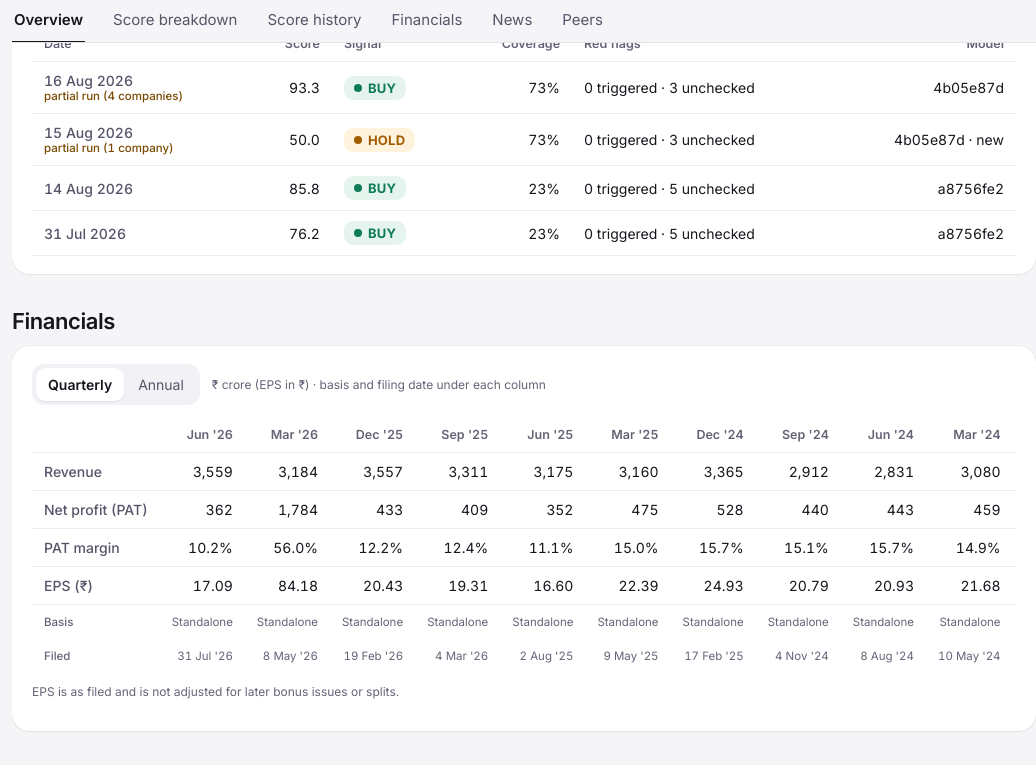
Test: other companies › ABB financials: the basis is given per column, and mixed bases are called out
(page scrolled)
Expected: the text "mix consolidated and standalone" is not shown
Click the button "Annual": coordinates (161, 385) top-left (126, 368), bottom-right (196, 401)
(page scrolled)
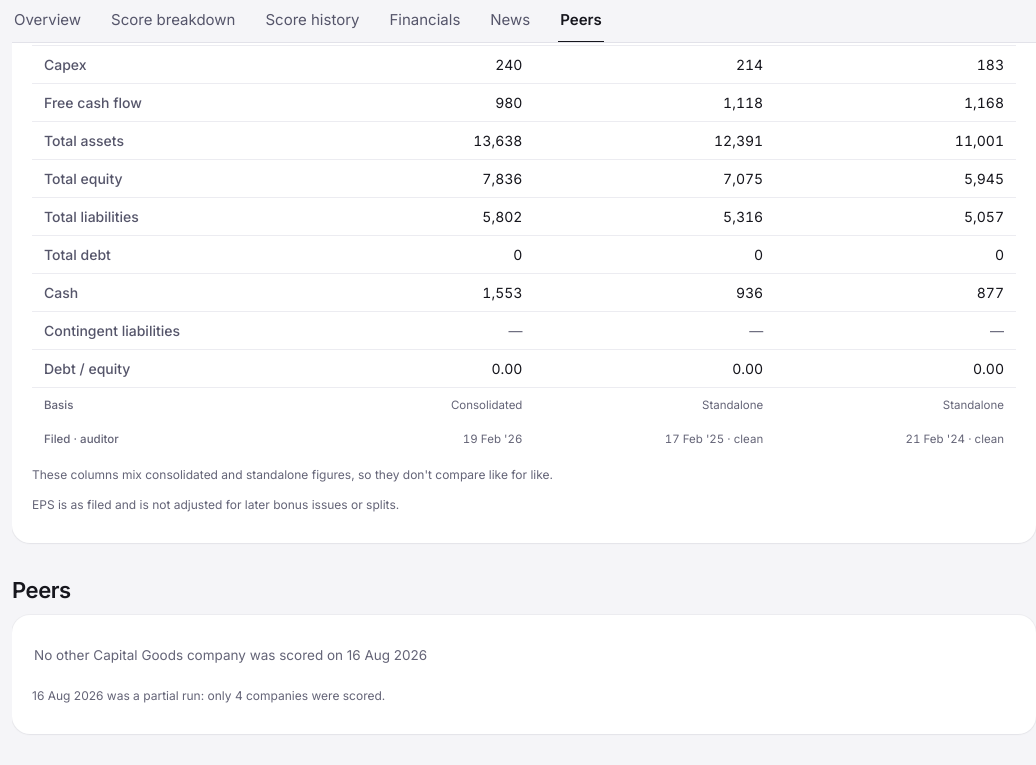
Expected: the cells read "Basis", "Consolidated", "Standalone", "Standalone", in this order, top-left (32, 388), bottom-right (347, 422); top-left (347, 388), bottom-right (534, 422); top-left (534, 388), bottom-right (775, 422); top-left (775, 388), bottom-right (1016, 422)
Expected: the text "These columns mix consolidated and standalone figures, so they don't compare like for like." is shown, top-left (32, 467), bottom-right (553, 482)
